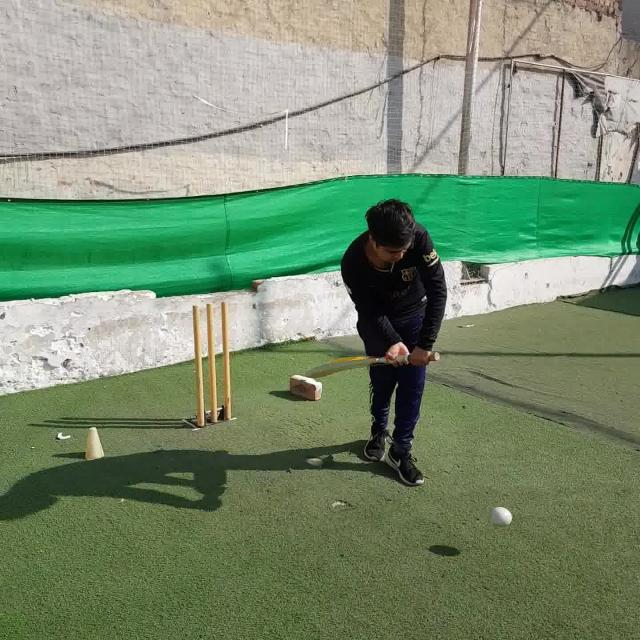ball: (491, 508, 512, 528)
bat: (307, 351, 440, 377)
